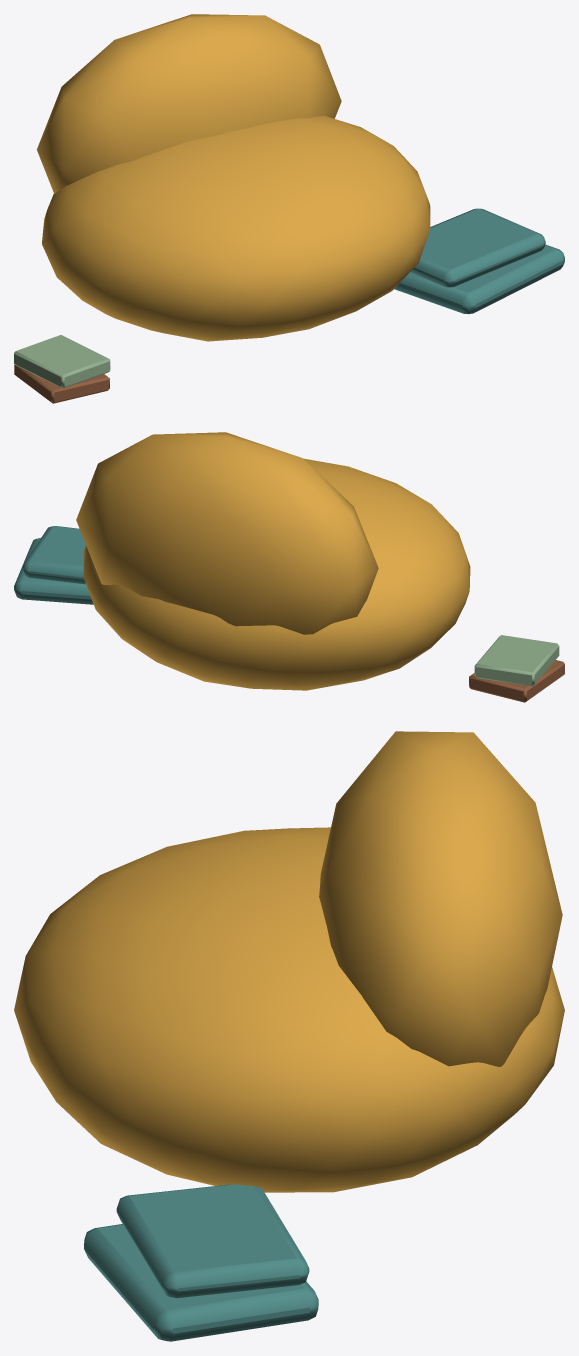
File: nap_pod_l1.glb
3 views of the same model, one above another, from view 1: azimuth 30°, elevation 25°; view 2: azimuth 150°, elevation 25°; view 3: azimuth 270°, elevation 25° (orthographic). The views are drawn at different scales.
Visible parts, largest first — view 1: nap_pod_l1; view 2: nap_pod_l1; view 3: nap_pod_l1.
Boxes of the visible parts, x1=… form: nap_pod_l1: x1=14, y1=14, x2=564, y2=403; nap_pod_l1: x1=14, y1=432, x2=564, y2=702; nap_pod_l1: x1=14, y1=731, x2=564, y2=1341.
Size of the model in its own units: 1.57 by 0.7336 by 0.9438.
